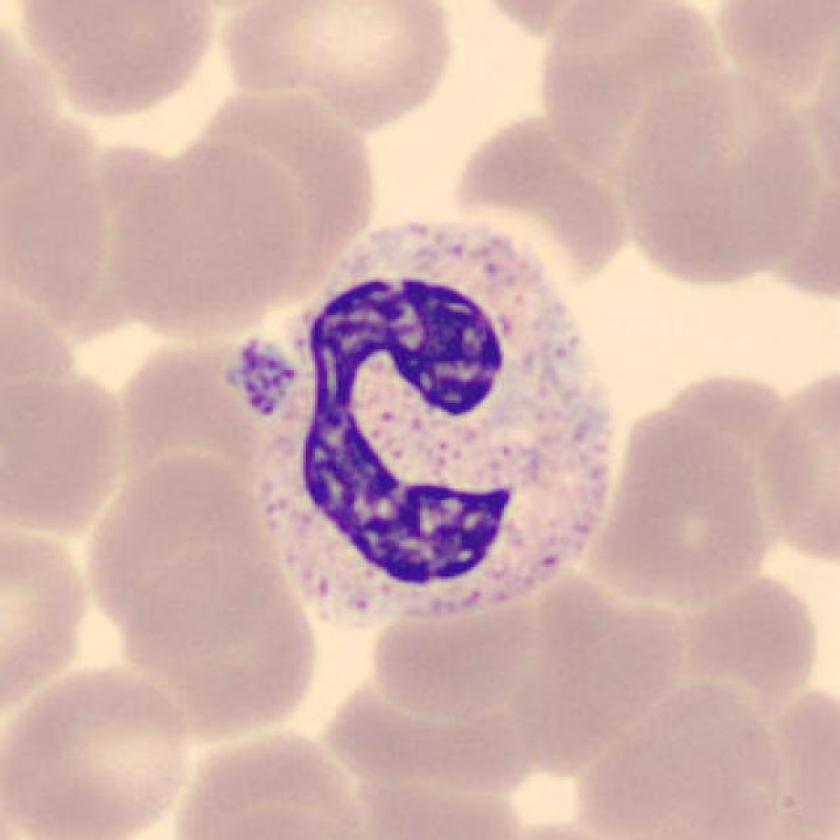neutrophil: (228, 210, 627, 627)
